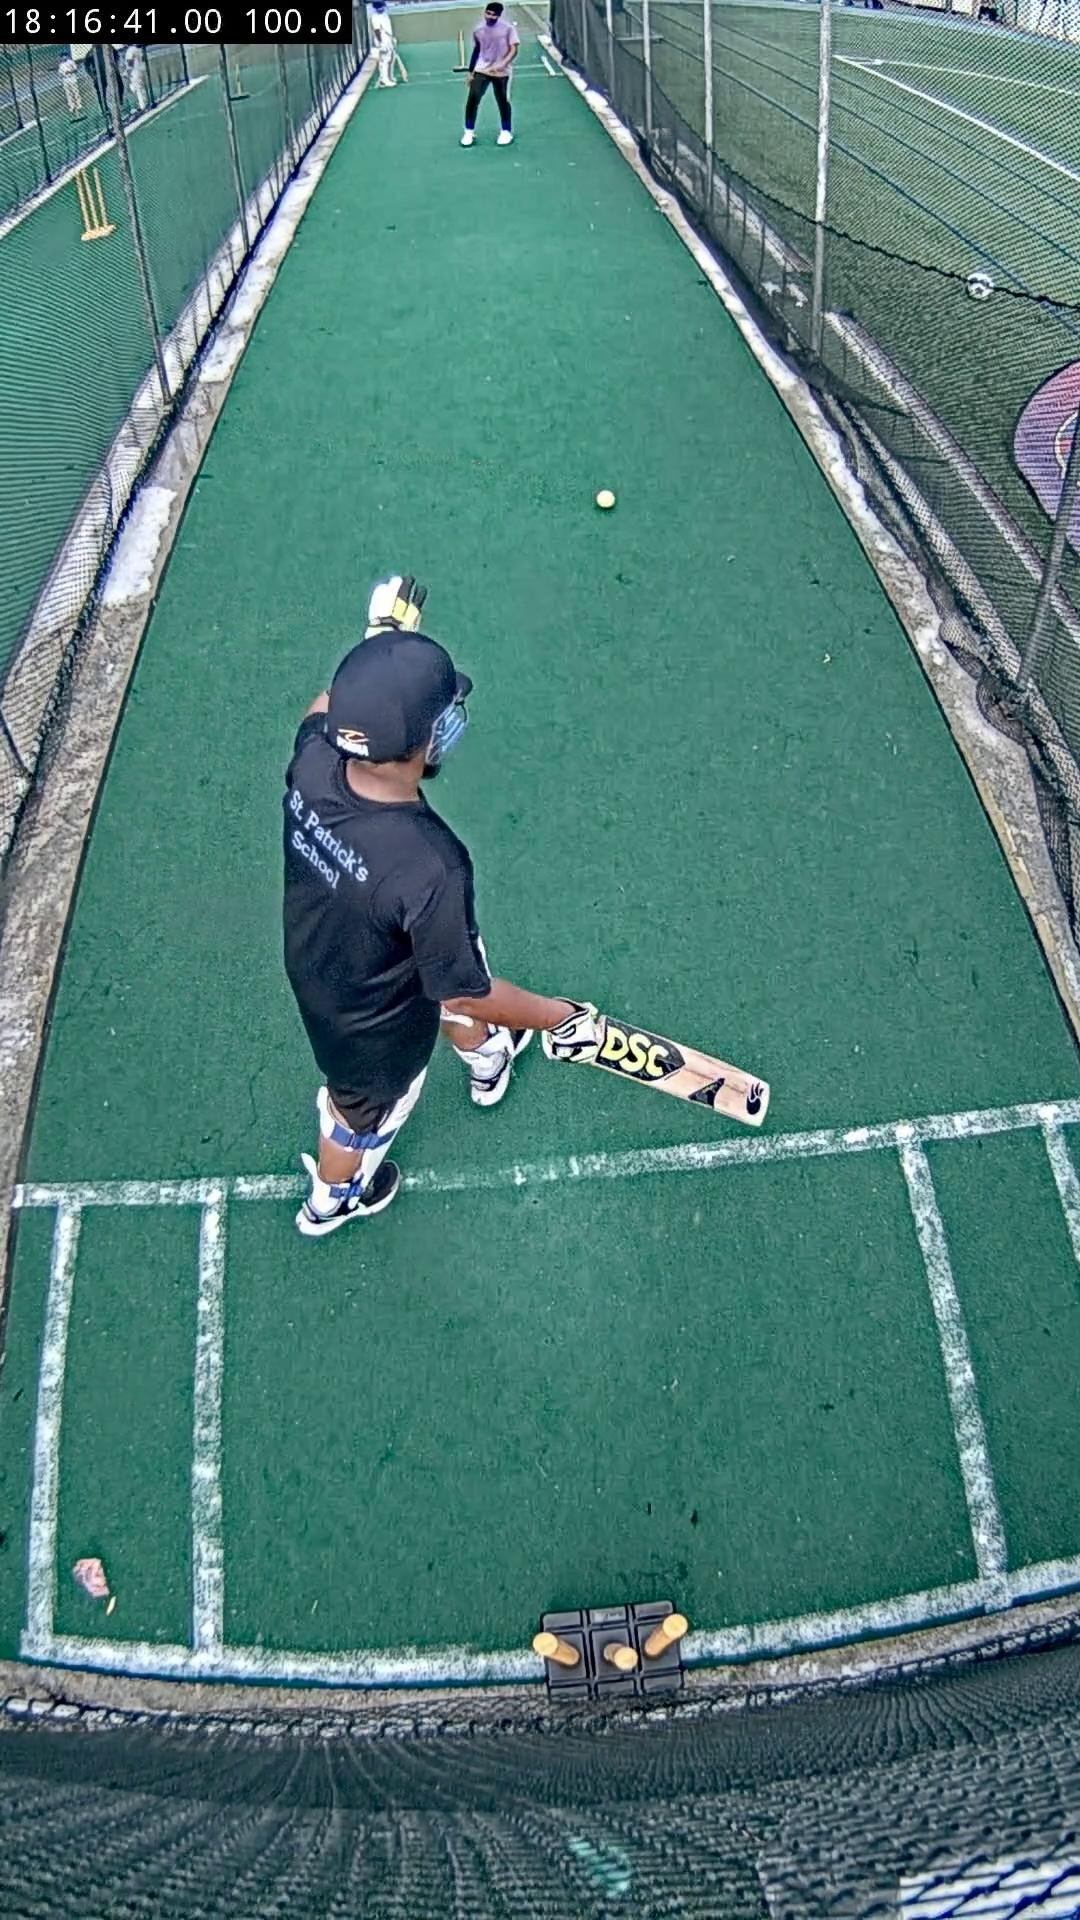ball: (596, 492, 615, 510)
bat: (588, 1018, 769, 1125)
gloves: (543, 1001, 604, 1062)
helmet: (326, 630, 472, 761)
stumps: (533, 1601, 686, 1702)
